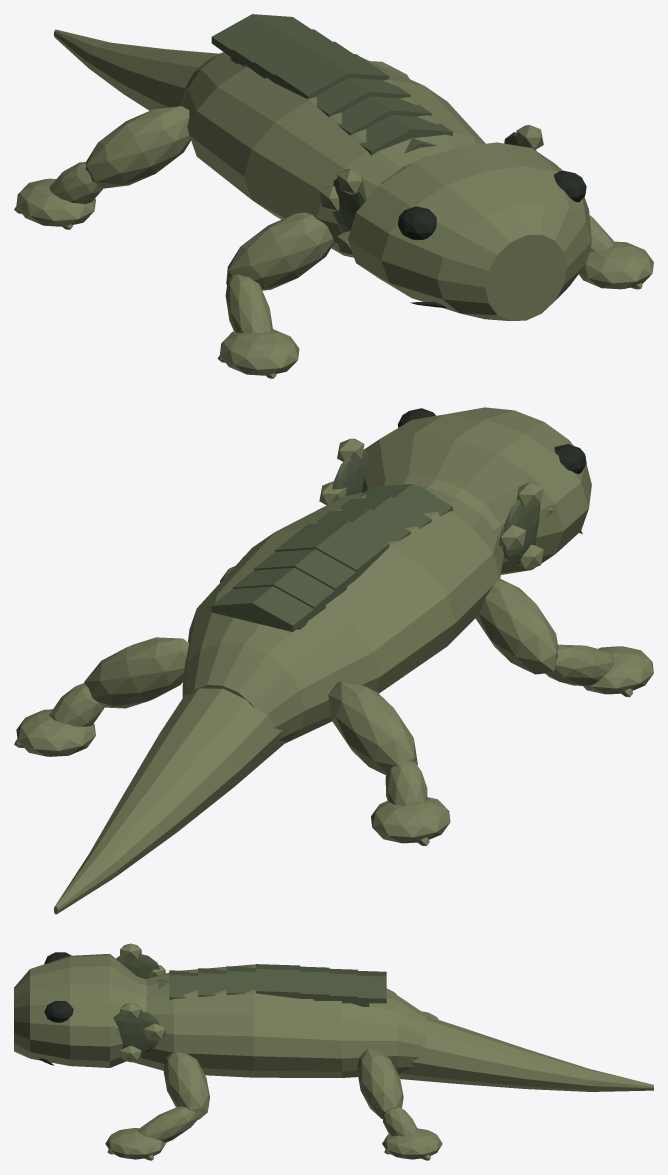
3 views of the same model, one above another, from view 1: azimuth 30°, elevation 25°; view 2: azimuth 150°, elevation 25°; view 3: azimuth 270°, elevation 25° (orthographic). The views are drawn at different scales.
Visible parts, largest first — view 1: surface_olive_skin, surface_subdued_armor_and_otic, surface_eye_and_mouth; view 2: surface_olive_skin, surface_subdued_armor_and_otic, surface_eye_and_mouth; view 3: surface_olive_skin, surface_subdued_armor_and_otic, surface_eye_and_mouth.
Boxes of the visible parts, box(x1,y1,x2,y2) form: surface_olive_skin: box(14, 29, 653, 378); surface_subdued_armor_and_otic: box(211, 14, 536, 232); surface_eye_and_mouth: box(398, 170, 586, 307); surface_olive_skin: box(14, 407, 653, 914); surface_subdued_armor_and_otic: box(211, 450, 540, 631); surface_eye_and_mouth: box(398, 408, 586, 533); surface_olive_skin: box(14, 943, 653, 1160); surface_subdued_armor_and_otic: box(113, 953, 386, 1052); surface_eye_and_mouth: box(39, 952, 73, 1065).
Size of the model in its own units: 0.2063 by 0.09 by 0.4.
